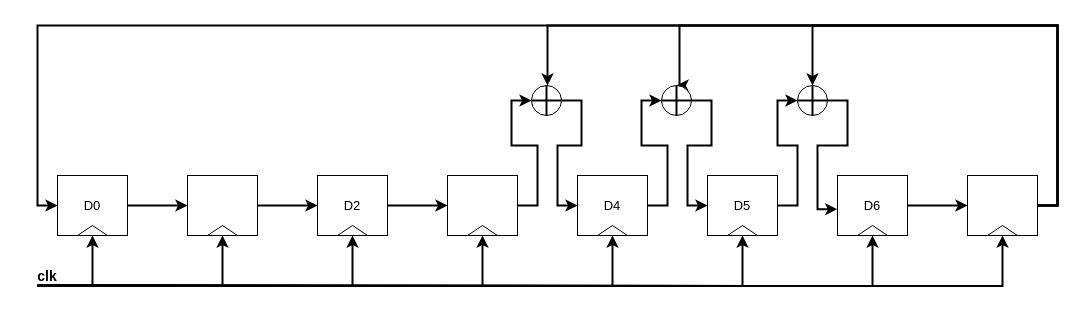
Image size: 1083x312. Some labels were removed from this diagram. Here are the shapes that lost their labels. From the top down, the centre of each, then its label:
(222,205): D1
(482,205): D3
(1002,205): D7
